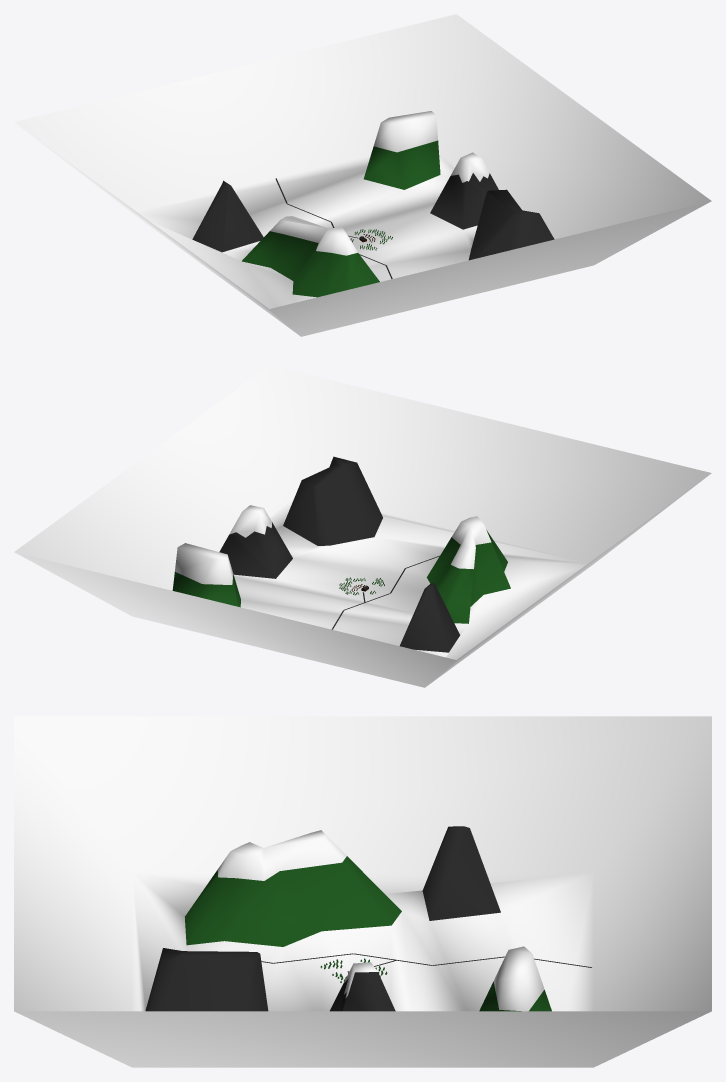
3 renders of one model, top to bottom at view 1: azimuth 30°, elevation 25°; view 2: azimuth 150°, elevation 25°; view 3: azimuth 270°, elevation 25°, orthographic. The views are drawn at different scales.
Visible parts, largest first — view 1: Map_Basic; view 2: Map_Basic; view 3: Map_Basic.
Part boxes in pixels (x1,y1,x2,y2): Map_Basic: [14, 14, 711, 336]; Map_Basic: [14, 365, 711, 687]; Map_Basic: [14, 716, 711, 1067].
Bounding box in the file's own units: 756 × 127 × 756.
1 material, 1 textured.
